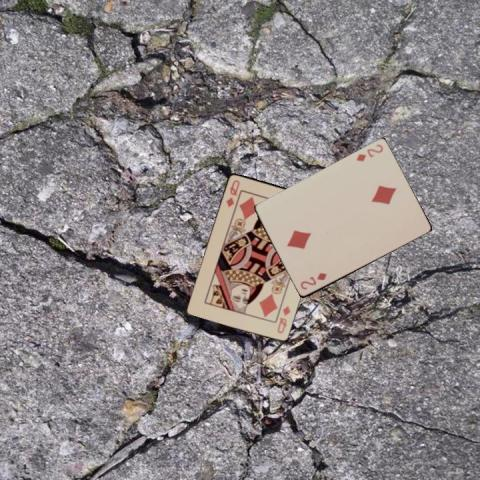2d: (353, 142, 385, 163), (297, 270, 328, 291)
Qd: (222, 177, 241, 208), (274, 302, 291, 335)
